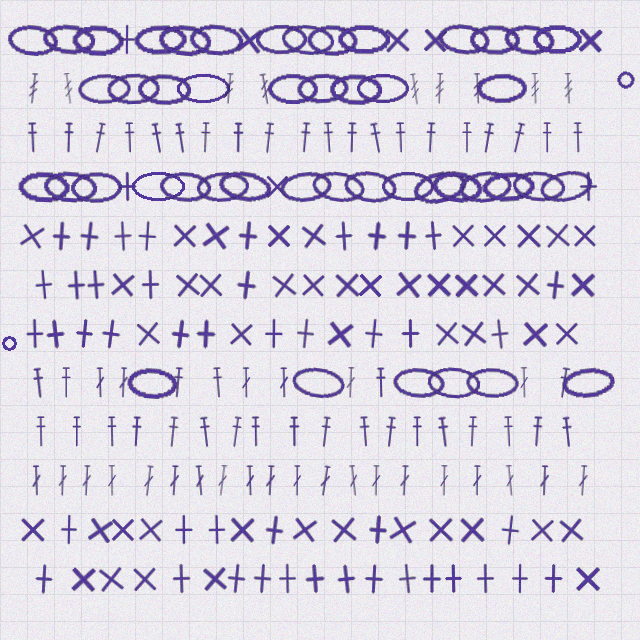chain: (410, 166, 469, 208), (537, 166, 595, 207), (216, 167, 273, 206), (310, 168, 367, 206), (290, 364, 347, 402), (342, 168, 399, 205), (457, 168, 514, 205), (436, 21, 492, 58), (430, 168, 485, 205), (560, 365, 616, 401), (157, 22, 212, 58), (280, 22, 335, 58), (502, 22, 557, 58), (278, 169, 333, 205), (188, 22, 244, 57), (42, 169, 98, 204), (511, 169, 567, 204), (426, 365, 482, 400), (6, 22, 60, 58), (41, 22, 96, 57), (195, 170, 251, 204), (158, 170, 212, 204), (481, 170, 535, 204), (392, 366, 446, 400), (126, 366, 179, 400), (106, 72, 160, 105), (296, 72, 350, 105), (465, 367, 520, 399), (17, 170, 70, 203), (133, 24, 187, 56), (77, 73, 131, 105), (137, 73, 191, 105), (71, 24, 124, 56), (306, 24, 359, 56), (329, 73, 382, 105), (176, 73, 230, 104), (356, 73, 410, 104), (131, 171, 185, 202), (469, 24, 521, 56), (70, 171, 122, 203), (337, 24, 390, 55), (381, 171, 434, 202), (255, 24, 307, 55), (267, 73, 319, 104), (476, 73, 528, 104), (532, 24, 583, 55)
double: (318, 465, 332, 497), (142, 465, 155, 497), (216, 465, 229, 496), (347, 465, 360, 496), (194, 465, 206, 496), (504, 465, 516, 496), (577, 465, 589, 496), (118, 367, 129, 398), (345, 367, 356, 398), (31, 465, 42, 496), (57, 465, 68, 496), (81, 465, 92, 496), (169, 465, 180, 496), (265, 465, 276, 496), (399, 465, 410, 496), (539, 465, 550, 496), (95, 367, 105, 398), (241, 367, 251, 398), (279, 367, 289, 398), (519, 367, 529, 398), (107, 465, 117, 496), (245, 465, 255, 496), (292, 465, 302, 496), (371, 465, 381, 496), (439, 465, 449, 496), (472, 465, 482, 496)
half_double: (509, 122, 527, 154), (91, 122, 108, 154), (149, 122, 166, 154), (368, 122, 385, 154), (480, 122, 496, 154), (556, 367, 572, 399), (228, 416, 244, 448), (173, 122, 188, 154), (261, 122, 276, 154), (31, 367, 46, 399), (198, 416, 213, 448), (318, 416, 333, 448), (383, 416, 398, 448), (436, 416, 451, 448), (560, 416, 575, 448), (166, 416, 180, 448), (298, 122, 312, 153), (171, 367, 185, 398), (211, 367, 225, 398), (358, 416, 372, 447), (530, 416, 544, 447), (26, 122, 39, 153), (123, 122, 136, 153), (199, 122, 212, 153), (322, 122, 335, 153), (394, 122, 407, 153), (424, 122, 437, 153), (130, 416, 143, 447), (466, 416, 479, 447), (502, 416, 515, 447), (232, 122, 244, 153), (346, 122, 358, 153), (461, 122, 473, 153), (541, 122, 553, 153), (572, 122, 584, 153), (60, 367, 72, 398), (375, 367, 387, 398), (35, 416, 47, 447), (106, 416, 118, 447), (288, 416, 300, 447), (411, 416, 423, 447), (63, 122, 74, 153), (71, 416, 82, 447), (250, 416, 261, 447)
noise: (615, 69, 637, 91), (0, 334, 19, 353)
single: (384, 511, 421, 548), (14, 218, 50, 254), (82, 512, 118, 548), (198, 218, 233, 253), (296, 218, 331, 253), (456, 316, 491, 351), (287, 512, 322, 547), (232, 23, 266, 57), (72, 219, 106, 253), (360, 219, 394, 253), (229, 268, 263, 302), (267, 268, 301, 302), (538, 268, 572, 302), (38, 317, 72, 351), (94, 317, 128, 351), (163, 317, 197, 351), (323, 317, 357, 351), (483, 317, 517, 351), (257, 513, 291, 547), (493, 513, 527, 547), (554, 513, 588, 547), (94, 562, 128, 596), (330, 562, 363, 596), (231, 219, 264, 252), (390, 219, 423, 252), (417, 219, 450, 252), (541, 219, 574, 252), (27, 268, 60, 301), (79, 268, 112, 301), (106, 268, 139, 301), (171, 268, 204, 301), (392, 268, 425, 301), (477, 268, 510, 301), (511, 268, 544, 301), (68, 317, 101, 350), (289, 317, 322, 350), (357, 317, 390, 350), (134, 513, 167, 546), (327, 513, 360, 546), (361, 513, 394, 546), (198, 562, 231, 595), (220, 562, 253, 595), (246, 562, 279, 595), (298, 562, 331, 595), (391, 562, 424, 595), (132, 317, 164, 350), (431, 317, 463, 350), (381, 24, 413, 56), (419, 24, 451, 56), (574, 24, 606, 56), (45, 220, 77, 252), (107, 220, 139, 252), (131, 220, 163, 252), (328, 220, 360, 252), (60, 269, 92, 301), (297, 269, 329, 301), (331, 269, 363, 301), (354, 269, 386, 301), (450, 269, 482, 301), (190, 318, 222, 350), (225, 318, 257, 350), (519, 318, 551, 350), (526, 514, 558, 546), (28, 563, 60, 595), (67, 563, 99, 595), (358, 563, 390, 595), (195, 269, 226, 301), (129, 563, 160, 595), (112, 171, 143, 202), (573, 171, 604, 202), (169, 220, 200, 251), (263, 220, 294, 251), (479, 220, 510, 251), (513, 220, 544, 251), (569, 220, 600, 251), (135, 269, 166, 300), (423, 269, 454, 300), (567, 269, 598, 300), (19, 318, 50, 349), (258, 318, 289, 349), (395, 318, 426, 349), (551, 318, 582, 349), (17, 514, 48, 545), (107, 514, 138, 545), (168, 514, 199, 545), (201, 514, 232, 545), (425, 514, 456, 545), (166, 563, 197, 594), (272, 563, 303, 594), (416, 563, 447, 594), (438, 563, 469, 594), (470, 563, 501, 594), (538, 563, 569, 594), (572, 563, 603, 594), (112, 24, 142, 55), (262, 171, 292, 202), (448, 220, 478, 251), (54, 514, 84, 545), (227, 514, 257, 545), (457, 514, 487, 545), (505, 563, 535, 594)
treble: (258, 73, 272, 105), (408, 73, 422, 105), (27, 73, 40, 104), (62, 73, 75, 104), (223, 73, 235, 104), (434, 73, 445, 104), (472, 73, 483, 104), (563, 73, 574, 104), (530, 73, 540, 104)
